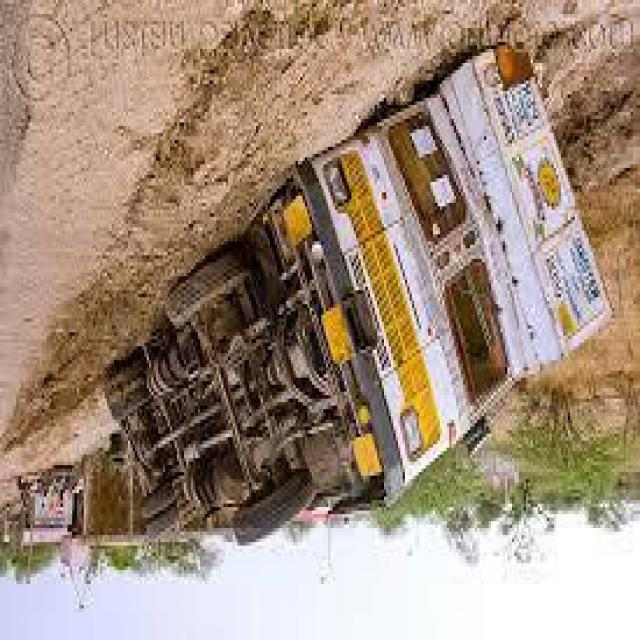severe: (93, 32, 612, 560)
